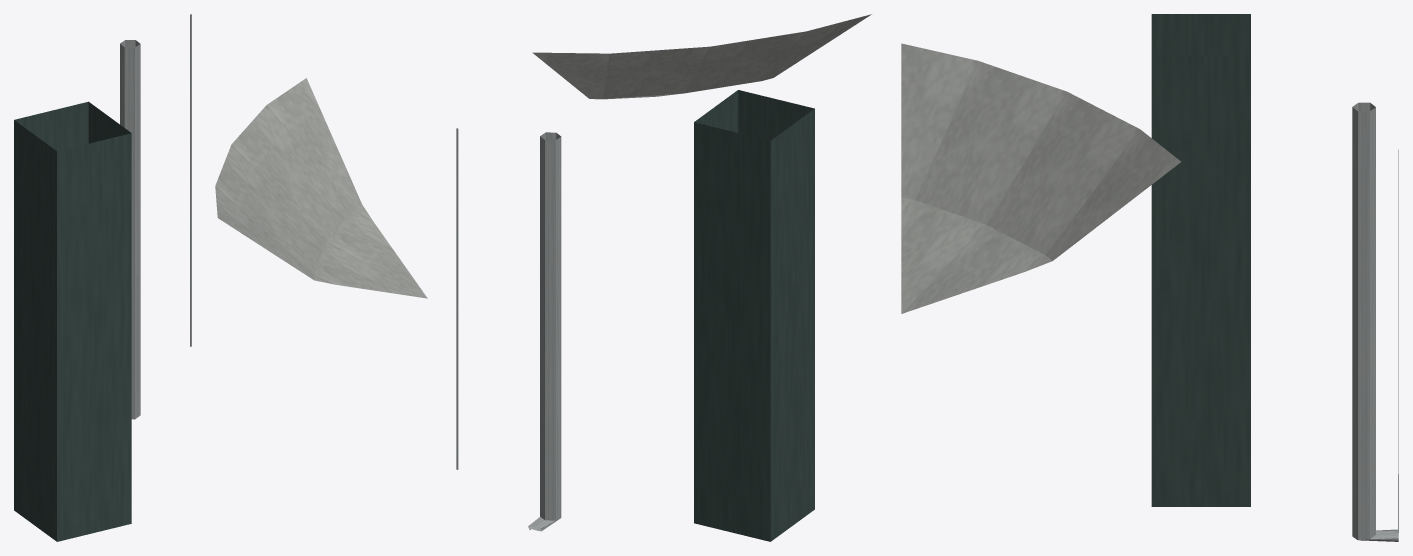
The model's file is cell_31.obj.
3 views of the same model, side by side, from view 1: azimuth 30°, elevation 25°; view 2: azimuth 150°, elevation 25°; view 3: azimuth 270°, elevation 25° (orthographic). The views are drawn at different scales.
Bounding box in the file's own units: 0.7031 × 1 × 1.
